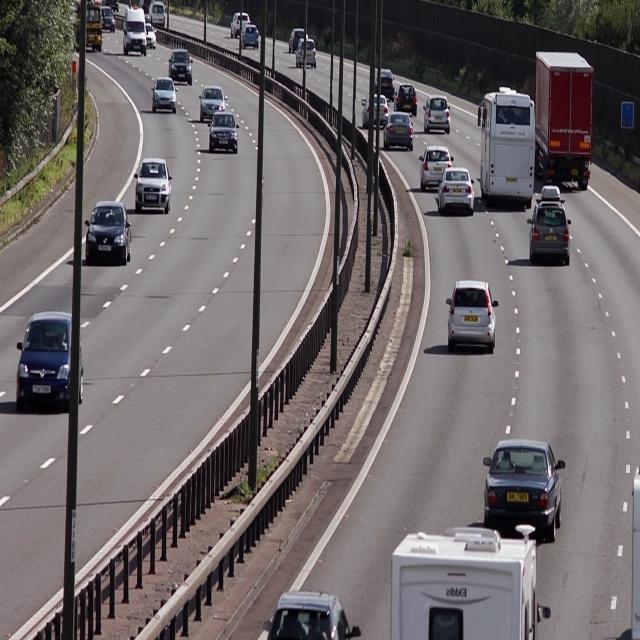Vehicle: (478, 438, 564, 530), (536, 52, 594, 187), (14, 311, 83, 412), (478, 95, 534, 200), (445, 280, 496, 356), (526, 188, 571, 266), (85, 200, 132, 268), (134, 153, 171, 213), (437, 167, 474, 216), (418, 147, 451, 191), (120, 6, 145, 57), (383, 112, 414, 151), (208, 112, 236, 153), (422, 96, 450, 131), (151, 76, 177, 113), (196, 86, 223, 121), (393, 82, 419, 116), (168, 49, 192, 84), (372, 65, 395, 98)
